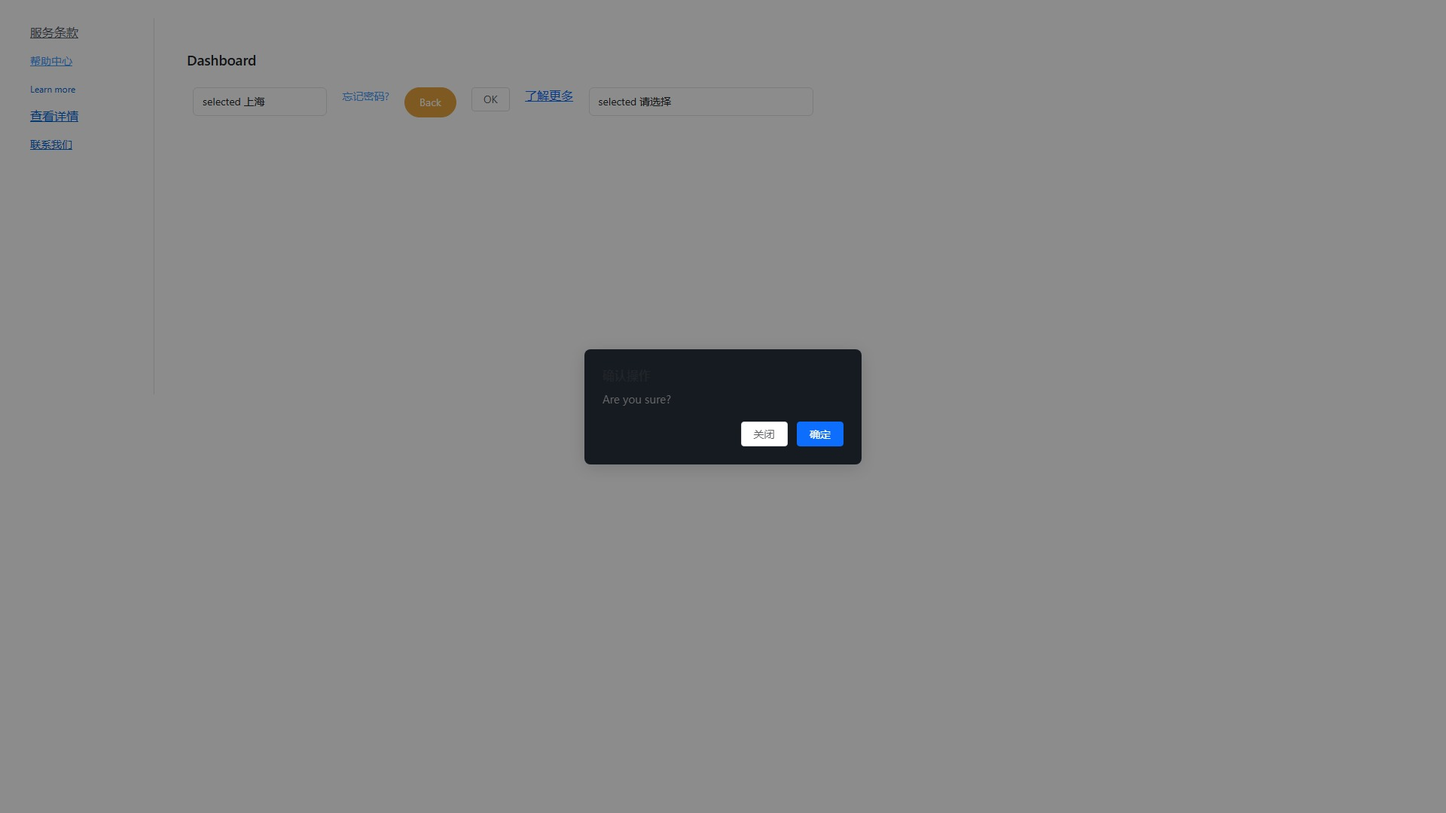button: (404, 87, 456, 117), (741, 421, 787, 446), (797, 421, 843, 446), (471, 87, 510, 111)
link: (30, 24, 78, 40), (525, 87, 573, 103), (30, 108, 78, 123), (342, 89, 389, 103), (30, 53, 72, 68), (30, 137, 72, 151), (30, 83, 75, 95)
modal: (0, 0, 1446, 813)
select: (589, 87, 813, 116), (193, 87, 327, 116)
